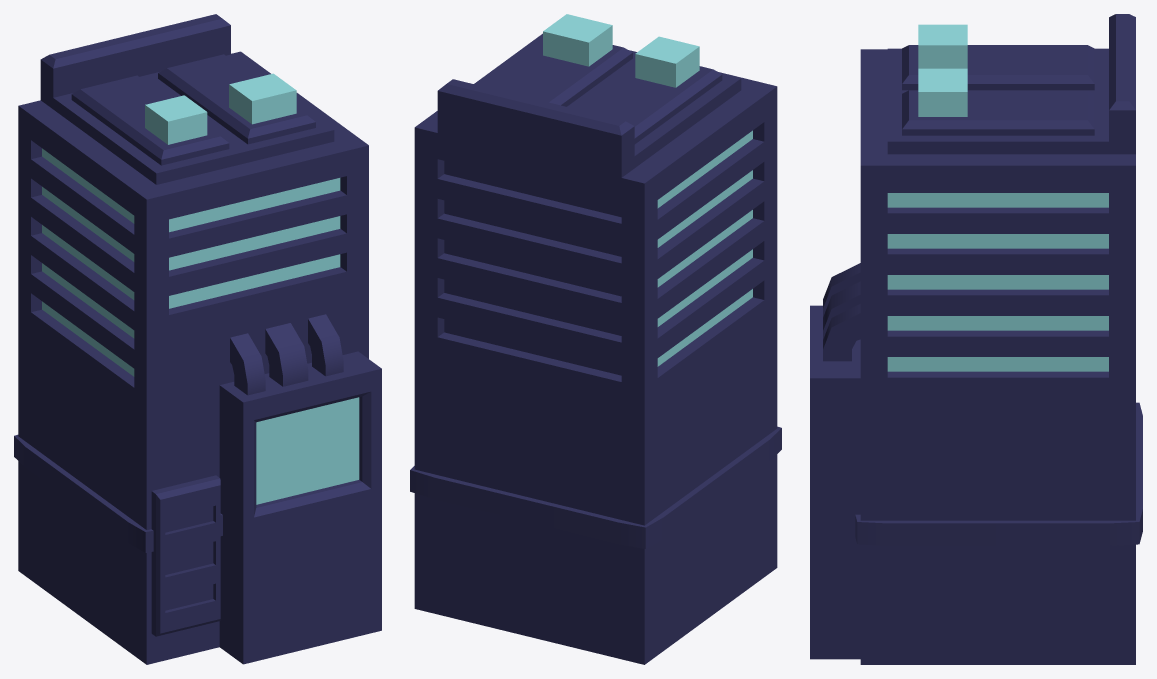
The model's file is Building_5.fbx.
3 views of the same model, side by side, from view 1: azimuth 30°, elevation 25°; view 2: azimuth 150°, elevation 25°; view 3: azimuth 270°, elevation 25° (orthographic). The views are drawn at different scales.
Parts seen in each view (by area): view 1: pCube19; view 2: pCube19; view 3: pCube19.
Boxes of the visible parts, x1=… form: pCube19: x1=14, y1=14, x2=381, y2=664; pCube19: x1=410, y1=14, x2=781, y2=664; pCube19: x1=810, y1=14, x2=1142, y2=664.
Bounding box in the file's own units: 5.25 × 11 × 6.05.
